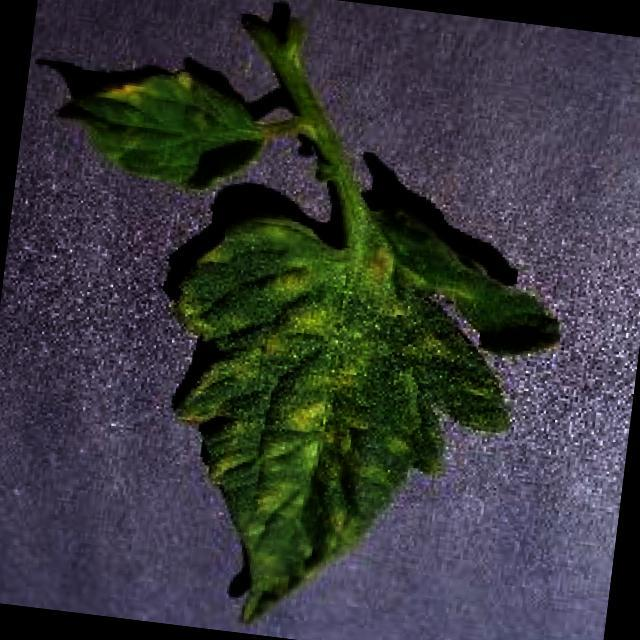Tomato mold leaf: (140, 179, 573, 640), (54, 58, 272, 194)
